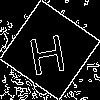H: (25, 25, 68, 76)
